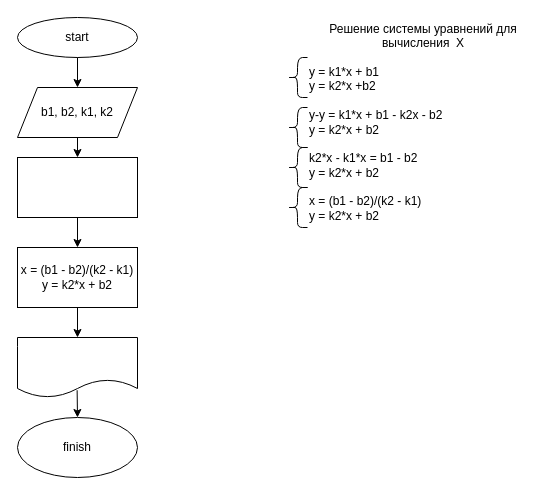
Some shapes in this 555 by 495 pixel diagram are drawn without their labels. The centre of each missing label's shape, as x and y in pixels:
"x, y" goes at (77,367).
"преобраз-ние b1, b2, k1, k2 в тип данных double" goes at (77,187).
